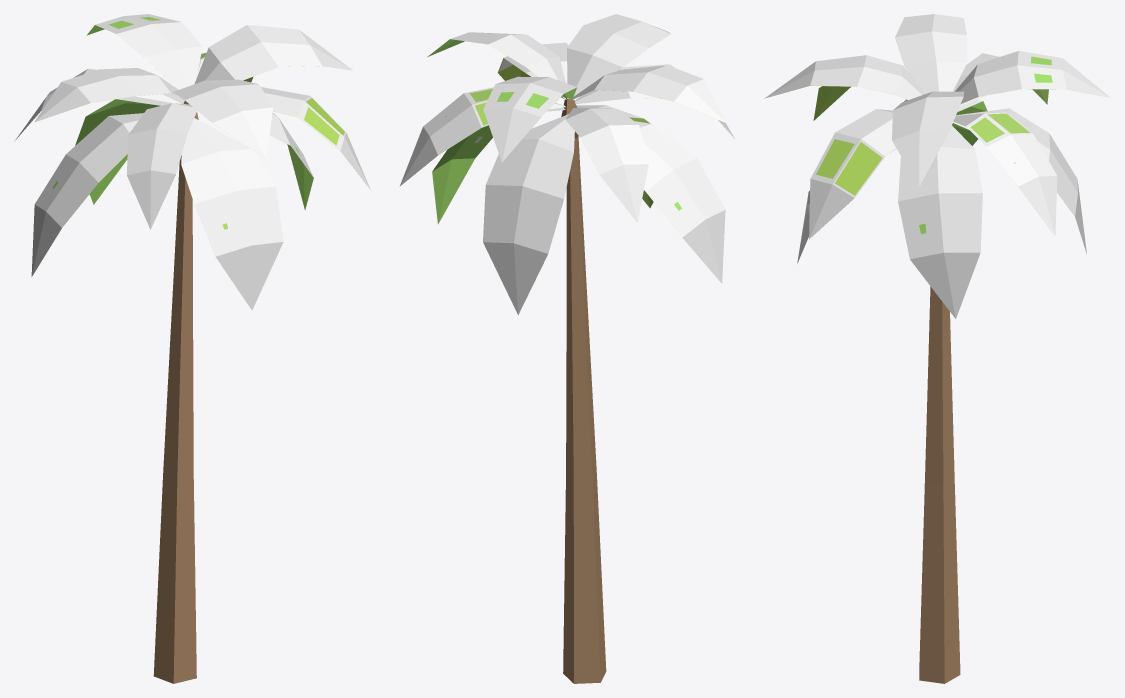
The model's file is Palm_Tree_l_Snow_01_LOD.fbx.
The picture shows the model from 3 angles, left to right: view 1: azimuth 30°, elevation 25°; view 2: azimuth 150°, elevation 25°; view 3: azimuth 270°, elevation 25°; orthographic projection.
Parts seen in each view (by area): view 1: Palm_Tree_l_Snow_01_LOD0; view 2: Palm_Tree_l_Snow_01_LOD0; view 3: Palm_Tree_l_Snow_01_LOD0.
Part boxes in pixels (x1,y1,x2,y2): Palm_Tree_l_Snow_01_LOD0: (14,14,370,683); Palm_Tree_l_Snow_01_LOD0: (399,14,734,683); Palm_Tree_l_Snow_01_LOD0: (764,14,1109,683).
Size of what is drawn, in the model's own units: 430 by 823 by 417.
